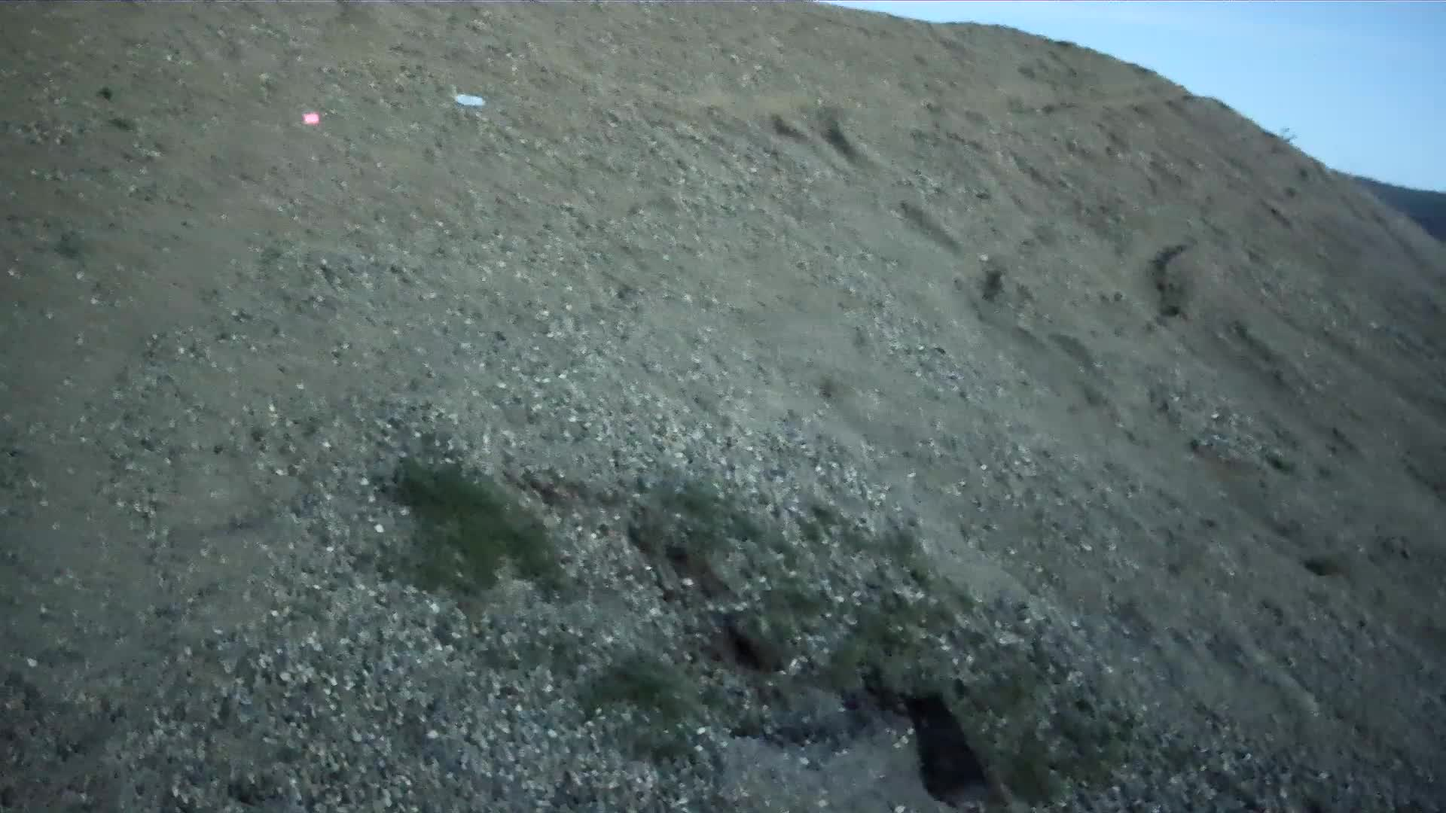Target: (454, 89, 489, 111)
